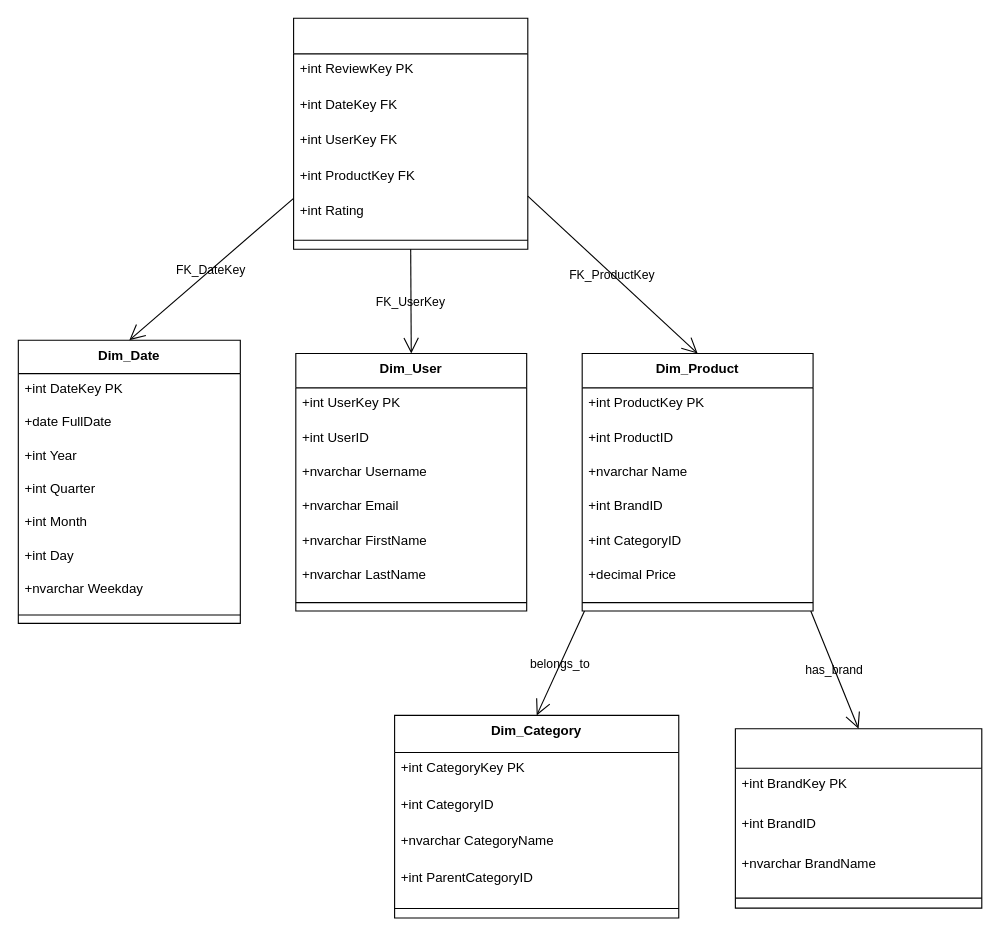
Image size: 1000x936. Some labels were removed from this diagram. The box of each missing label's shape, as (x1, y1, x2, y2) in pixels:
Dim_Brand: (734, 728, 982, 908)
Fact_Reviews: (292, 17, 528, 249)
